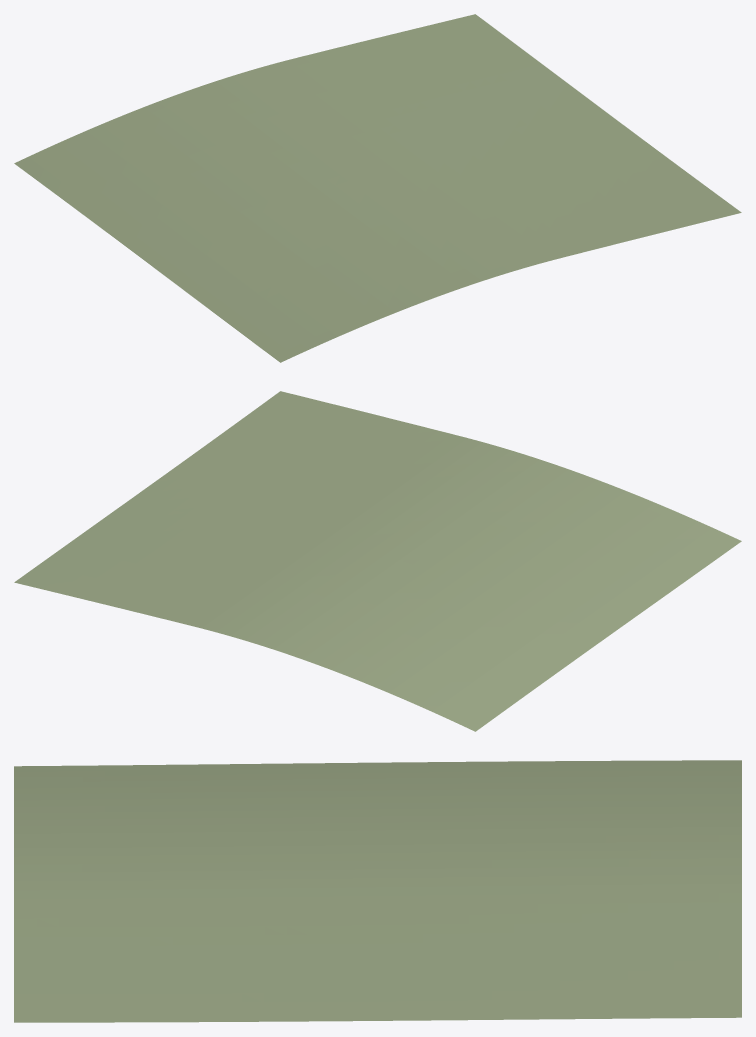
The model's file is desert-24-0.glb.
The picture shows the model from 3 angles, top to bottom: view 1: azimuth 30°, elevation 25°; view 2: azimuth 150°, elevation 25°; view 3: azimuth 270°, elevation 25°; orthographic projection. The views are drawn at different scales.
Visible parts, largest first — view 1: desert-24-0; view 2: desert-24-0; view 3: desert-24-0.
Boxes of the visible parts, x1=… form: desert-24-0: x1=14, y1=14, x2=741, y2=362; desert-24-0: x1=14, y1=391, x2=741, y2=731; desert-24-0: x1=14, y1=760, x2=741, y2=1022.
Size of the model in its own units: 512 by 43.69 by 512.
